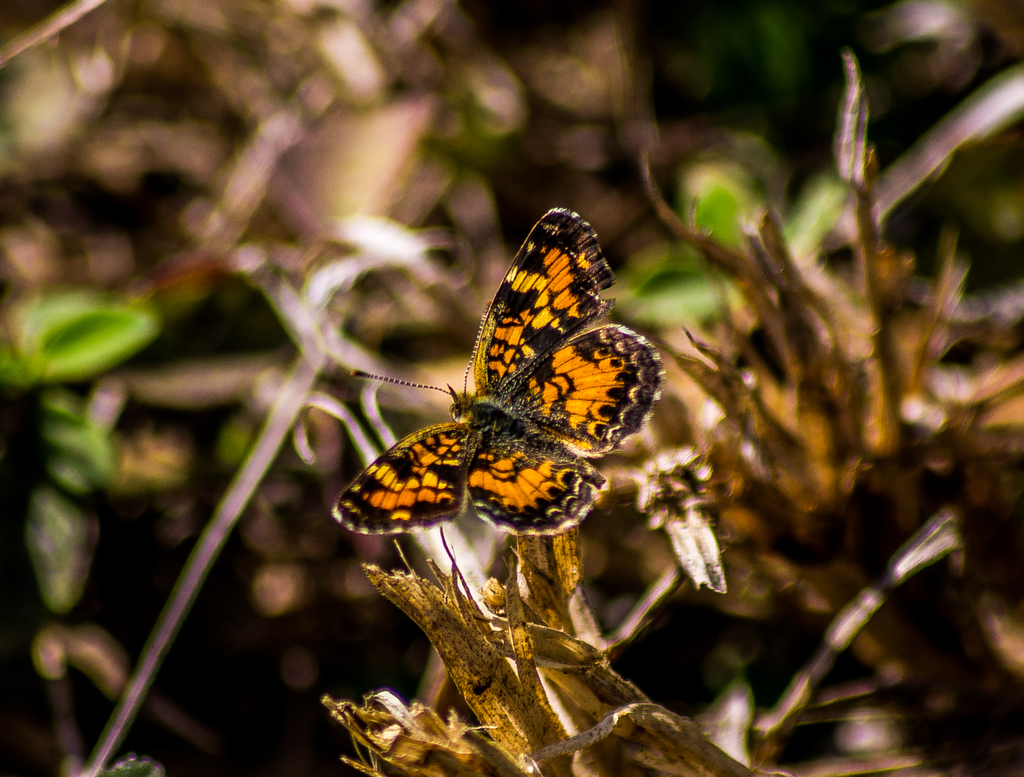Butterfly: (326, 205, 678, 555)
